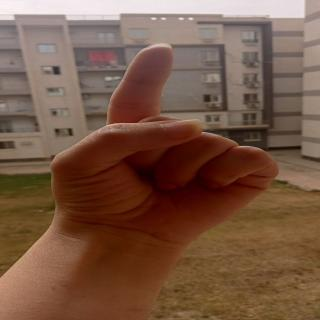BAA: (37, 32, 283, 232)
